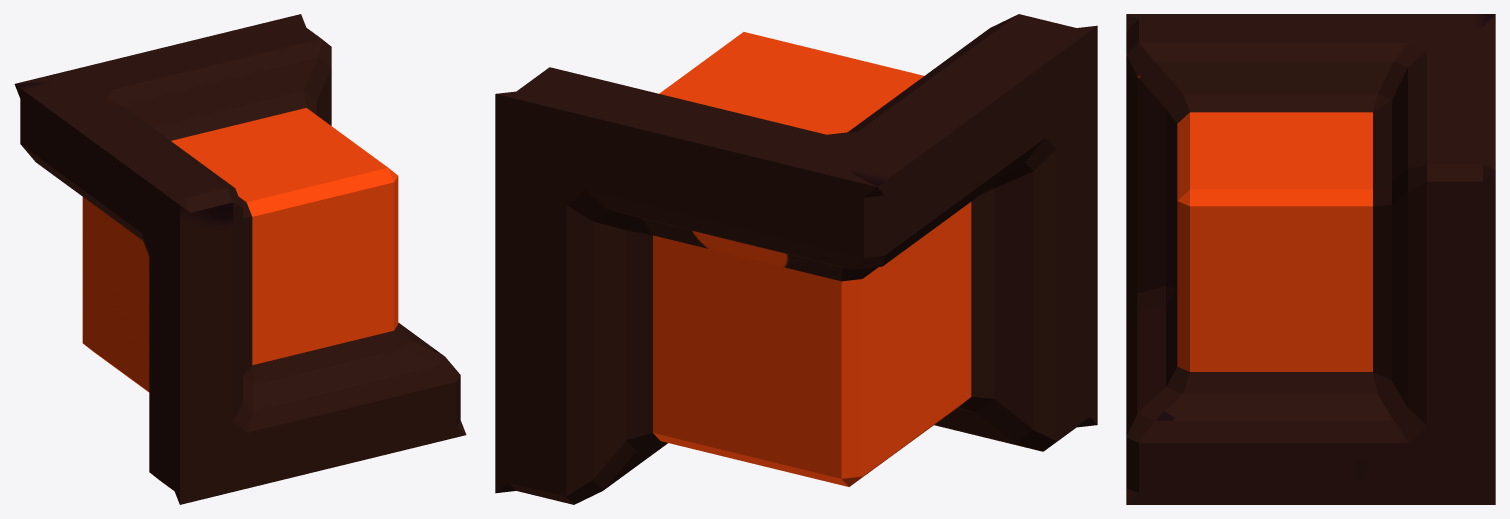
Rendered from CubeFriendCube.fbx.
The picture shows the model from 3 angles, left to right: view 1: azimuth 30°, elevation 25°; view 2: azimuth 150°, elevation 25°; view 3: azimuth 270°, elevation 25°; orthographic projection. The views are drawn at different scales.
Parts seen in each view (by area): view 1: Cube; view 2: Cube; view 3: Cube.
Part boxes in pixels (x1,y1,x2,y2): Cube: (14,14,466,504); Cube: (495,14,1097,504); Cube: (1126,14,1495,504).
Size of the model in its own units: 400 by 400 by 400.
Materials: 1 (1 with a texture image).
